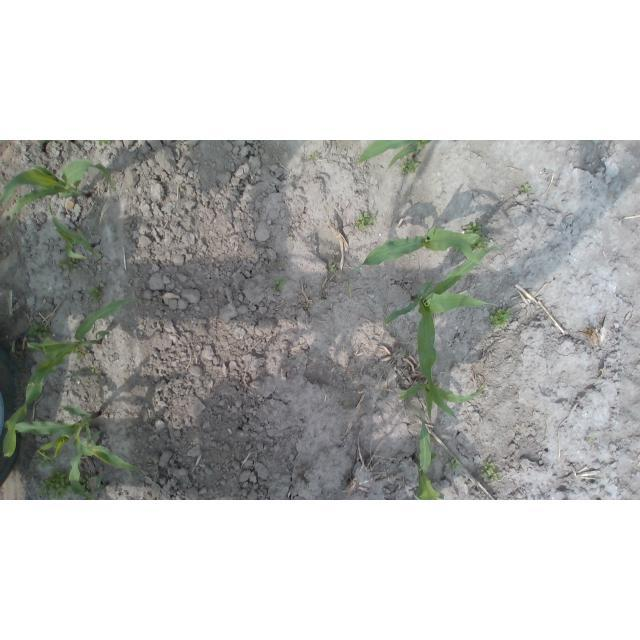Maize: (384, 243, 503, 392), (24, 295, 140, 409), (4, 405, 141, 500), (348, 225, 500, 300), (1, 160, 116, 233), (401, 400, 447, 500), (398, 376, 489, 422), (48, 197, 104, 265), (356, 141, 429, 171)
Weeds: (35, 469, 104, 499), (19, 438, 51, 479), (463, 222, 490, 246), (27, 320, 51, 340), (491, 308, 512, 329), (400, 158, 423, 175), (84, 283, 102, 303), (356, 212, 375, 230), (484, 461, 500, 481), (519, 182, 532, 195), (75, 343, 86, 358), (588, 432, 599, 446), (274, 281, 286, 293), (89, 364, 100, 376), (448, 459, 459, 469), (329, 260, 337, 271), (310, 153, 319, 162), (99, 140, 110, 146)
